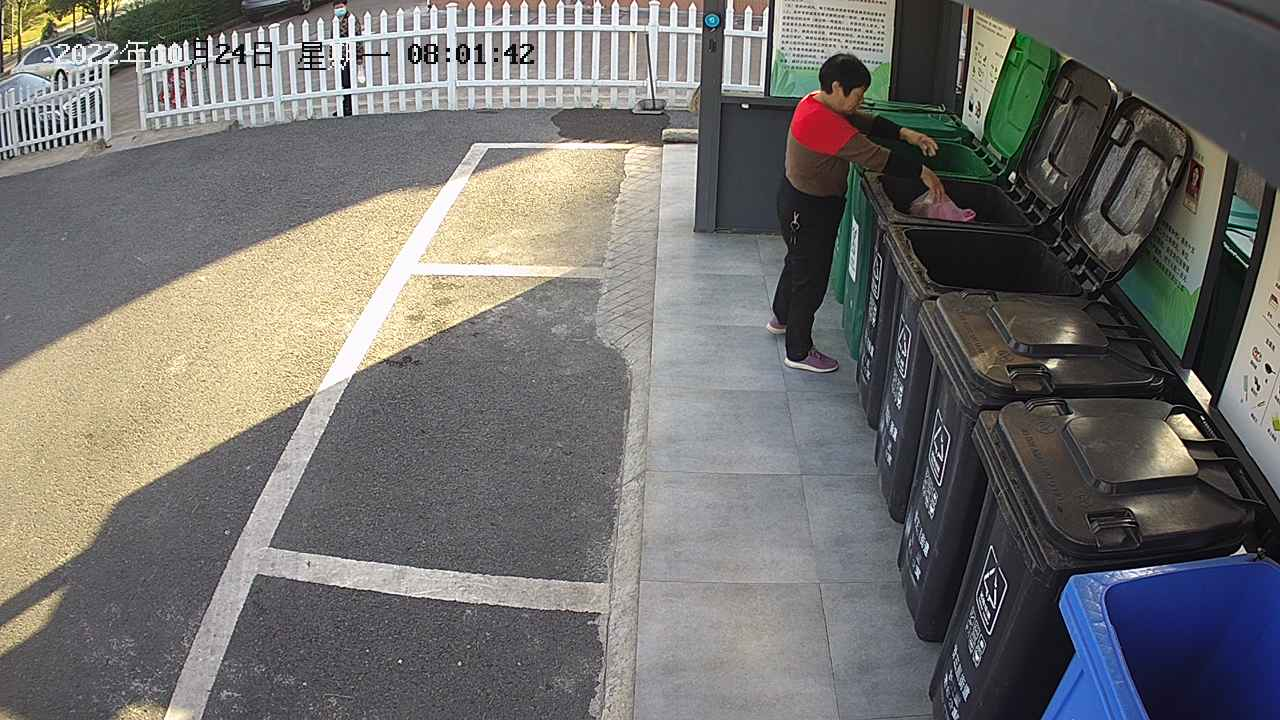person: (760, 45, 952, 380)
